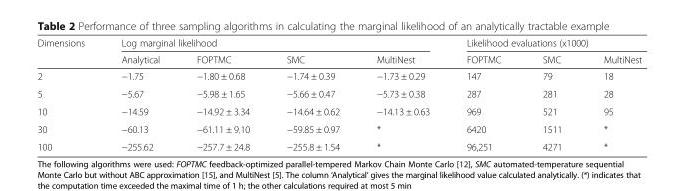table: (36, 36, 641, 152)
table column: (177, 36, 267, 152), (267, 36, 357, 152), (357, 36, 447, 152), (102, 36, 177, 152), (447, 36, 521, 152), (36, 36, 102, 152), (521, 36, 582, 152), (582, 36, 641, 152)
table column header: (36, 36, 641, 67)
table row: (36, 84, 641, 102), (36, 119, 641, 137), (36, 50, 641, 67), (36, 67, 641, 84), (36, 102, 641, 119), (36, 137, 641, 152), (36, 36, 641, 50)
table spanning cell: (102, 36, 447, 50), (447, 36, 641, 50), (36, 36, 102, 67)
